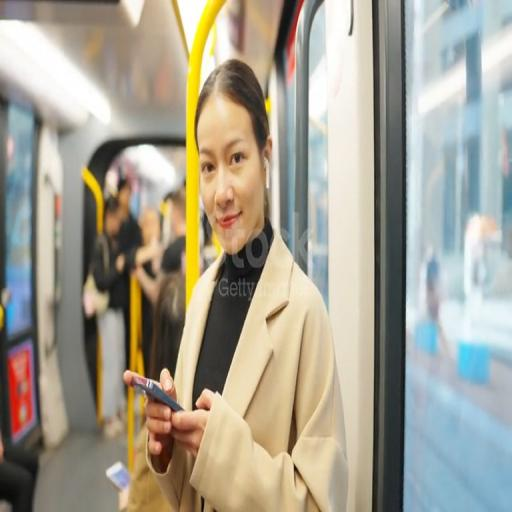earphone: (259, 151, 272, 202)
